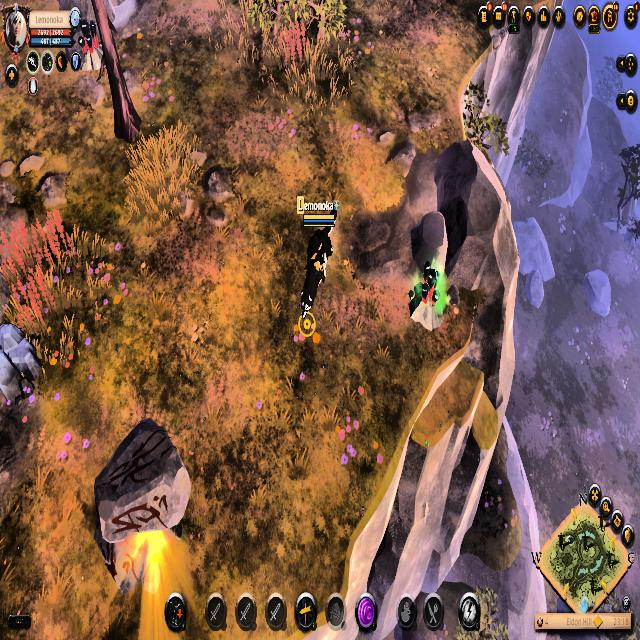ore tier 5: (406, 260, 447, 333)
